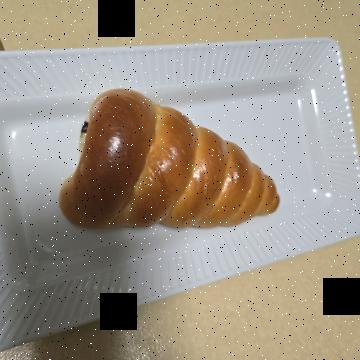cream horn: (77, 57, 254, 301)
